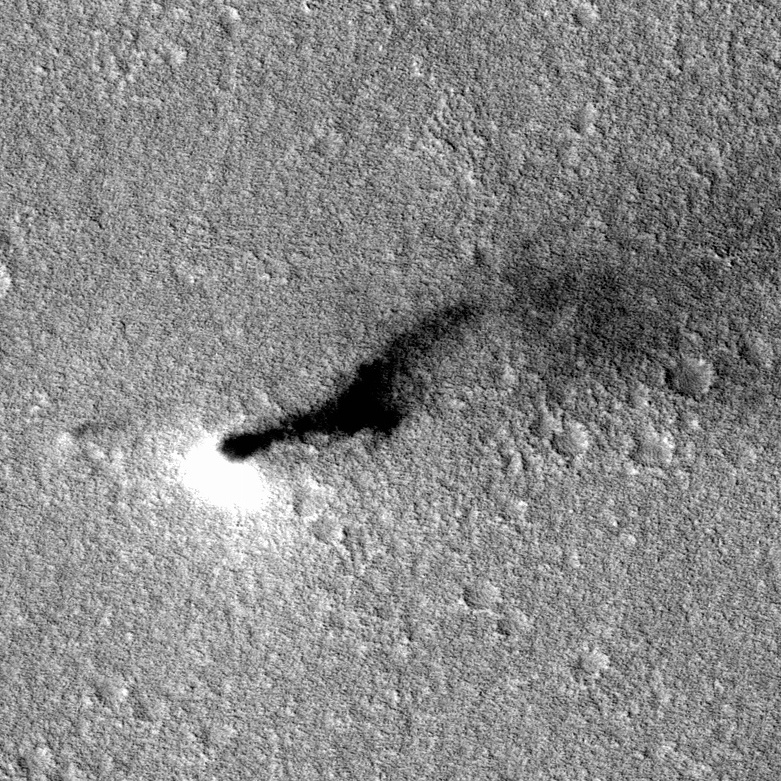dust_devil: (174, 299, 482, 517)
